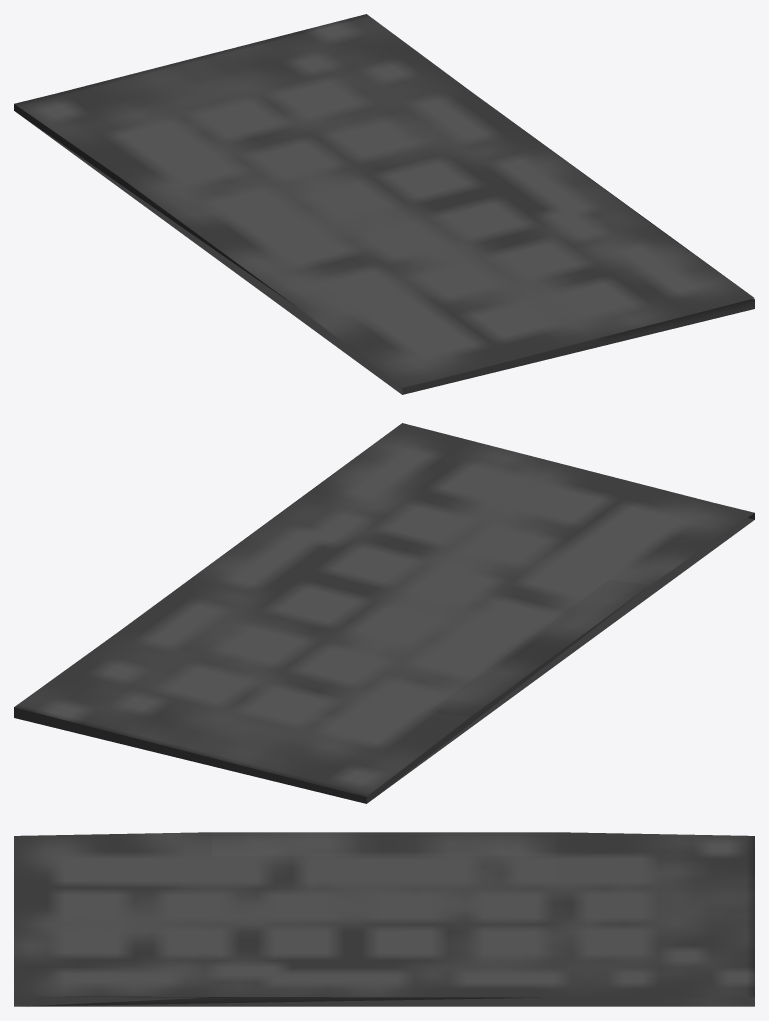
File: keyboard.fbx
3 renders of one model, top to bottom at view 1: azimuth 30°, elevation 25°; view 2: azimuth 150°, elevation 25°; view 3: azimuth 270°, elevation 25°, orthographic. The views are drawn at different scales.
Visible parts, largest first — view 1: Cube; view 2: Cube; view 3: Cube.
Boxes of the visible parts, x1=… form: Cube: x1=14, y1=14, x2=754, y2=394; Cube: x1=14, y1=423, x2=754, y2=803; Cube: x1=14, y1=832, x2=754, y2=1006.
Bounding box in the file's own units: 556 × 16.31 × 1060.
1 material, 1 textured.
